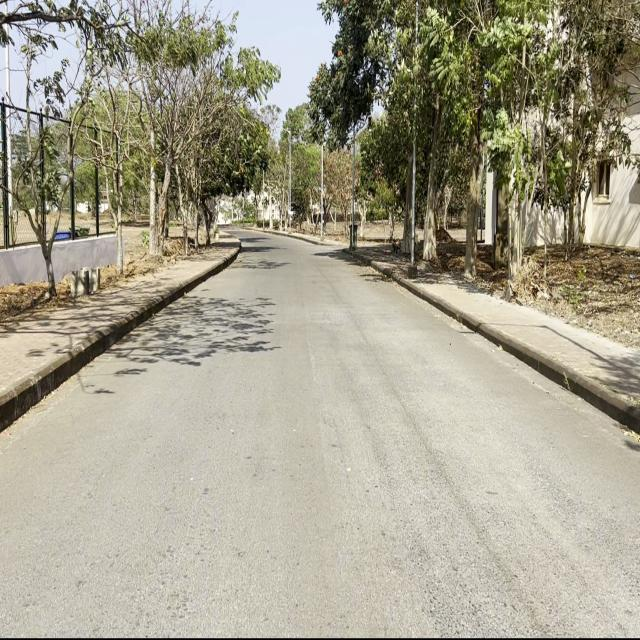Road: (3, 232, 636, 632)
